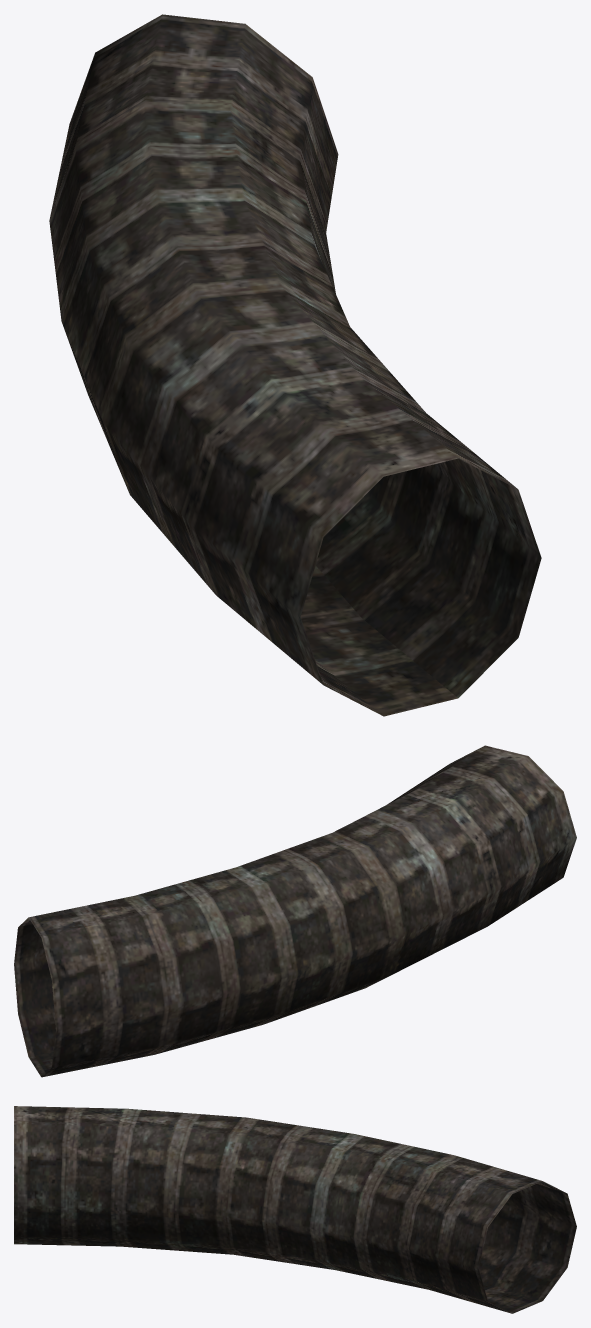
The model's file is leech_cable_45_right_short.dae.
The picture shows the model from 3 angles, top to bottom: view 1: azimuth 30°, elevation 25°; view 2: azimuth 150°, elevation 25°; view 3: azimuth 270°, elevation 25°; orthographic projection. The views are drawn at different scales.
Parts seen in each view (by area): view 1: tentacle_leech_cable_45_right; view 2: tentacle_leech_cable_45_right; view 3: tentacle_leech_cable_45_right.
Part boxes in pixels (box(x1,y1,x2,y2)): tentacle_leech_cable_45_right: box(49, 14, 541, 716); tentacle_leech_cable_45_right: box(14, 745, 576, 1077); tentacle_leech_cable_45_right: box(14, 1106, 576, 1313).
Bounding box in the file's own units: 0.4234 × 0.1932 × 0.8218.
